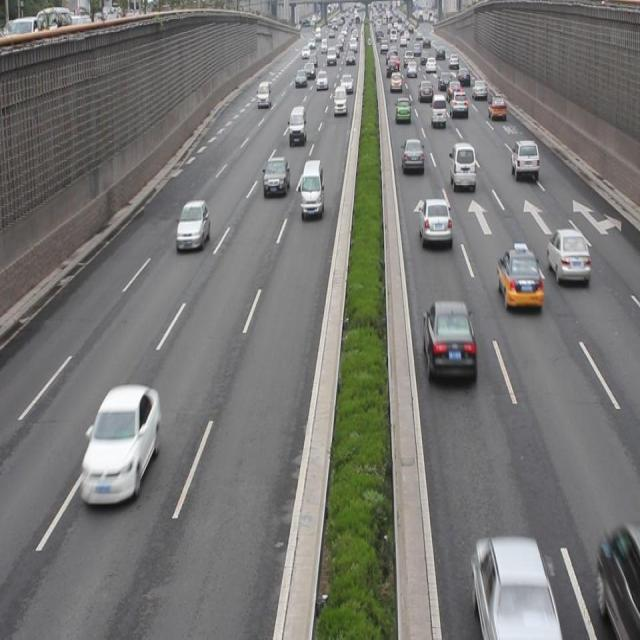car: (81, 385, 159, 504), (471, 536, 558, 632), (422, 303, 477, 387), (496, 246, 541, 309), (547, 228, 588, 288), (176, 200, 211, 252), (418, 198, 451, 248), (262, 157, 289, 199), (510, 140, 537, 180), (401, 138, 422, 173)
truck: (299, 157, 325, 218), (449, 143, 476, 191), (289, 106, 306, 144), (430, 94, 446, 128)
